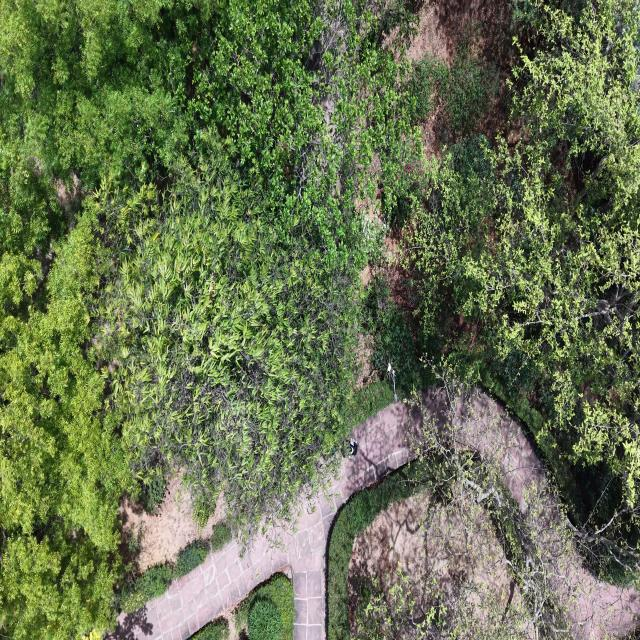DRY_AREA: (114, 392, 448, 639), (113, 405, 409, 639), (423, 390, 639, 639), (348, 485, 535, 639), (120, 475, 225, 571), (395, 3, 452, 63), (405, 2, 455, 64), (406, 3, 451, 62)
PATHWAYS: (111, 392, 443, 639)
VEGETATION_TREE: (0, 0, 639, 639), (0, 0, 411, 638), (383, 2, 639, 582), (408, 2, 639, 566), (0, 0, 189, 638), (96, 134, 358, 524), (343, 379, 636, 638), (328, 379, 610, 639), (327, 405, 565, 639), (0, 218, 130, 638), (327, 464, 428, 639), (115, 523, 231, 613), (408, 43, 500, 140), (362, 272, 432, 397), (354, 567, 441, 639), (235, 574, 295, 639), (118, 563, 173, 613), (344, 381, 392, 428), (248, 599, 282, 639), (191, 619, 229, 639)
